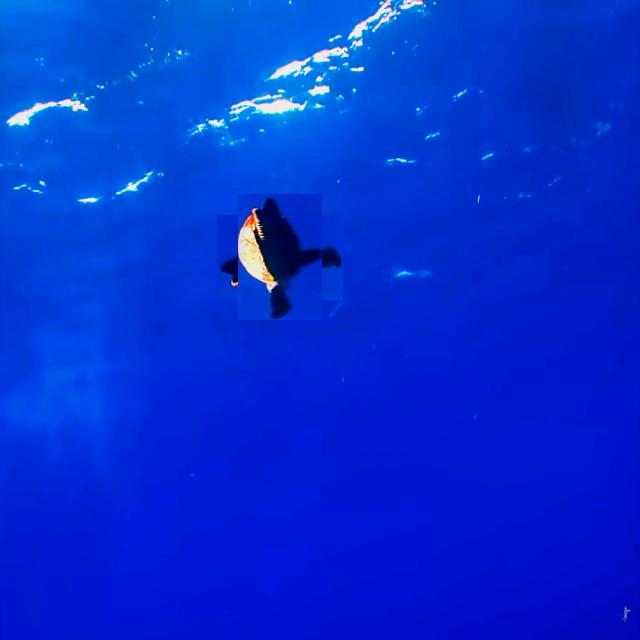Sea turtle: (227, 205, 333, 310)
